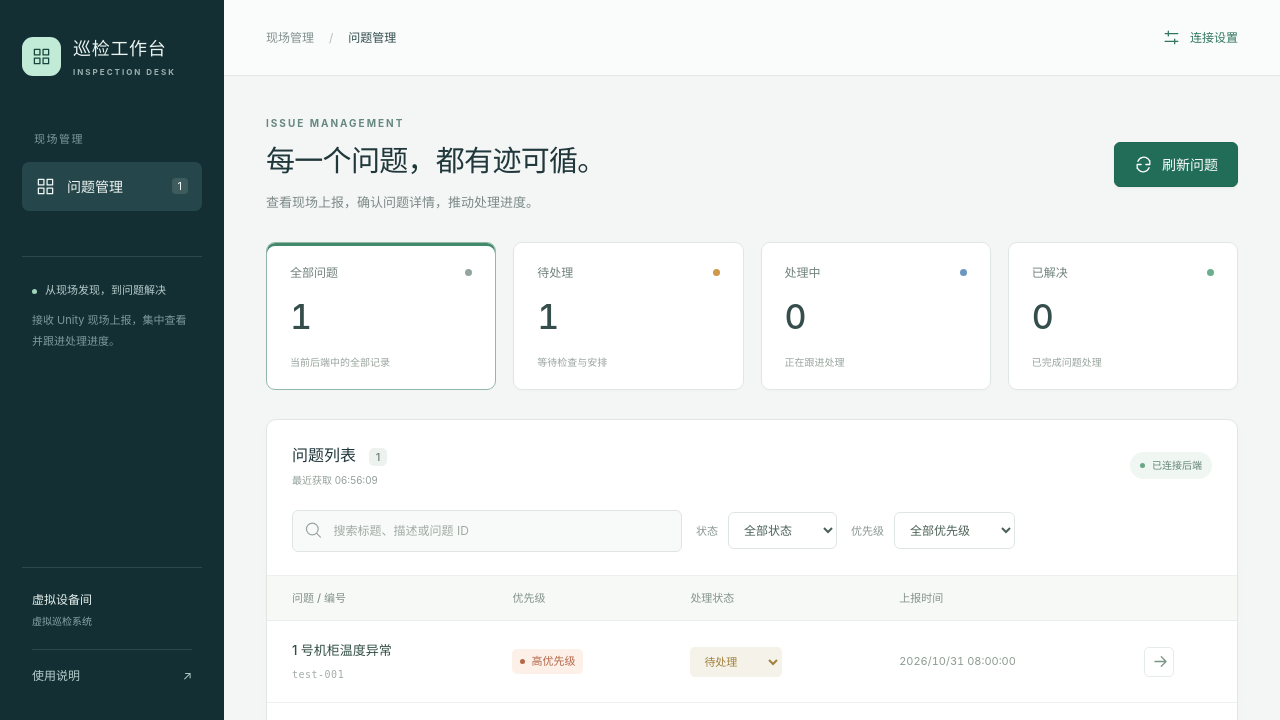
Test: 问题管理交互 › 修改失败保留旧状态，显示错误而不报告成功
This screenshot has width=1280, height=720.
Select "已解决" in the dropdown named "列表状态：1 号机柜温度异常": (736, 662) left=690, top=647, right=782, bottom=677
(page scrolled)
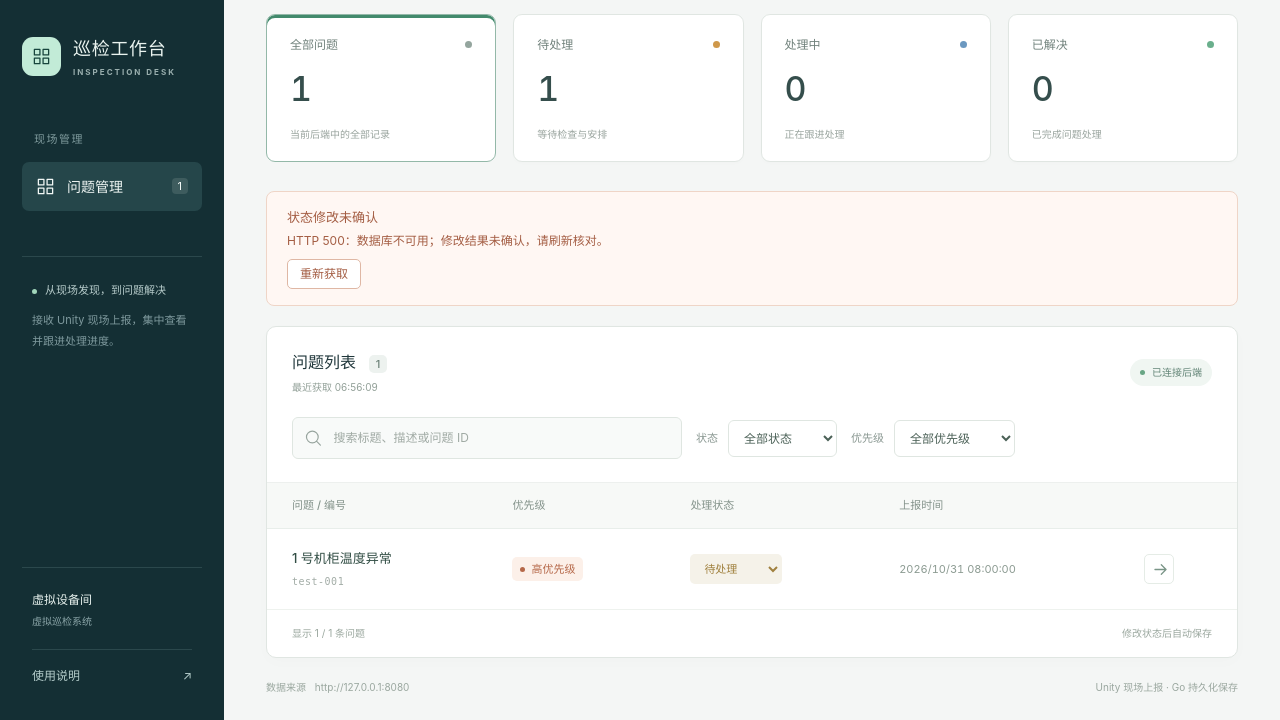
Check: the message "状态修改未确认 HTTP 500：数据库不可用；修改结果未确认，请刷新核对。 重新获取" is shown, box left=266, top=191, right=1238, bottom=306
